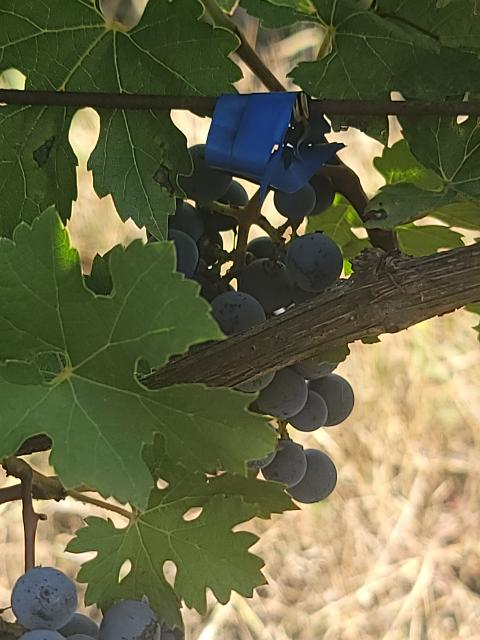grapes: (169, 145, 342, 334), (11, 568, 181, 640), (241, 360, 351, 430), (270, 440, 336, 501)
